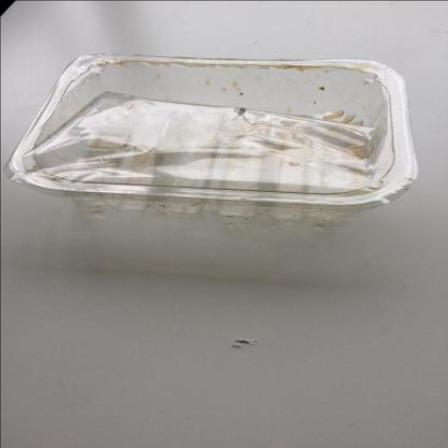Plastic bag - wrapper: (3, 70, 417, 212)
Plastic container: (10, 55, 418, 223)
